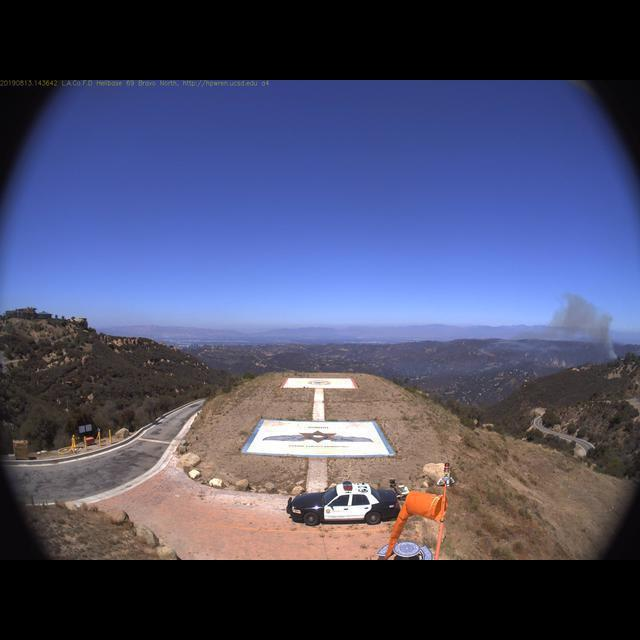Smoke: (539, 288, 618, 365)
